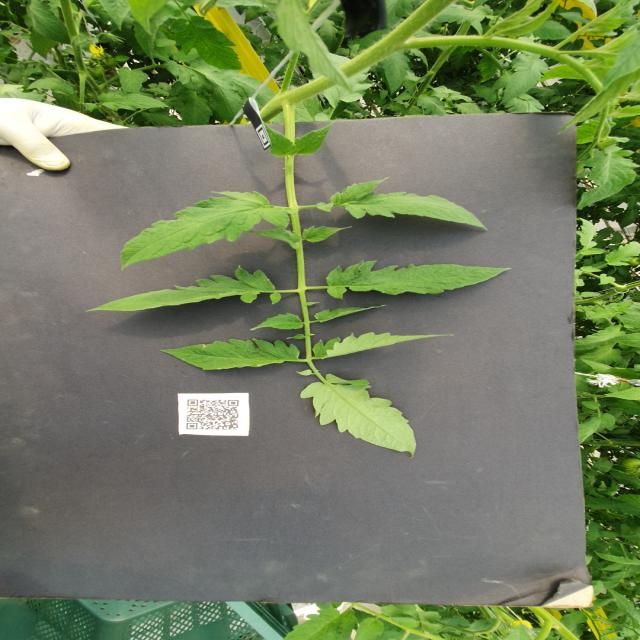Healthy Leaf: (120, 192, 291, 272), (300, 375, 418, 459), (316, 176, 486, 231), (86, 266, 284, 313), (326, 261, 513, 301), (161, 340, 301, 372), (312, 332, 455, 361), (577, 146, 640, 211), (172, 17, 245, 72), (192, 63, 245, 125), (499, 54, 550, 107), (28, 1, 72, 46), (99, 93, 173, 113), (381, 50, 412, 97), (577, 343, 624, 374), (316, 305, 388, 324), (303, 225, 354, 244), (252, 314, 305, 332), (605, 242, 640, 267), (577, 218, 599, 249), (118, 68, 145, 93), (419, 94, 447, 116)
